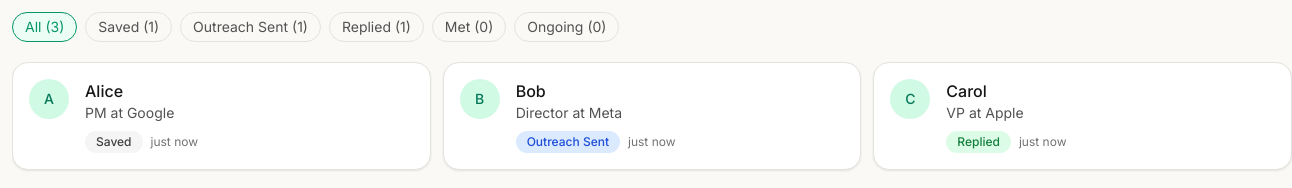
ConnectionPipeline › shows empty state for stage with no connections
This screenshot has width=1292, height=188.
Click the button "Met (0)".
click(469, 27)  # box [432,12,506,42]
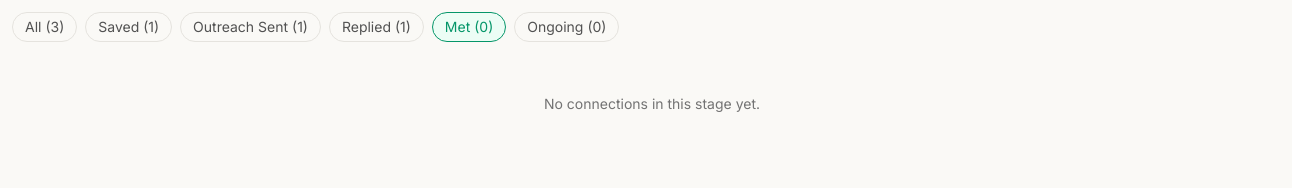
Expected: the text "No connections in this stage yet." is shown, [544,95,760,112]
